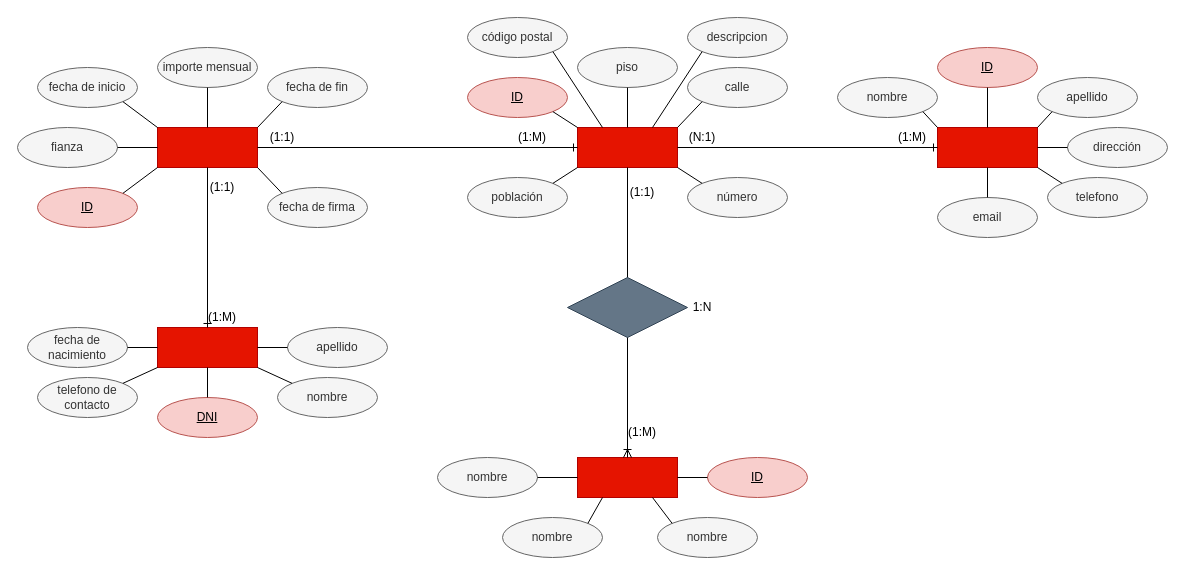
Image size: 1185x575. Some labels were removed from this diagram. The centre of each missing label's shape, as x and y in pixels:
AGENCIA INMOBILIARIA: the point at 627,477
ALQUILER: the point at 207,147
gestiona: the point at 627,307
INQUILINO: the point at 207,347
PROPIETARIO: the point at 987,147
VIVIENDA: the point at 627,147
